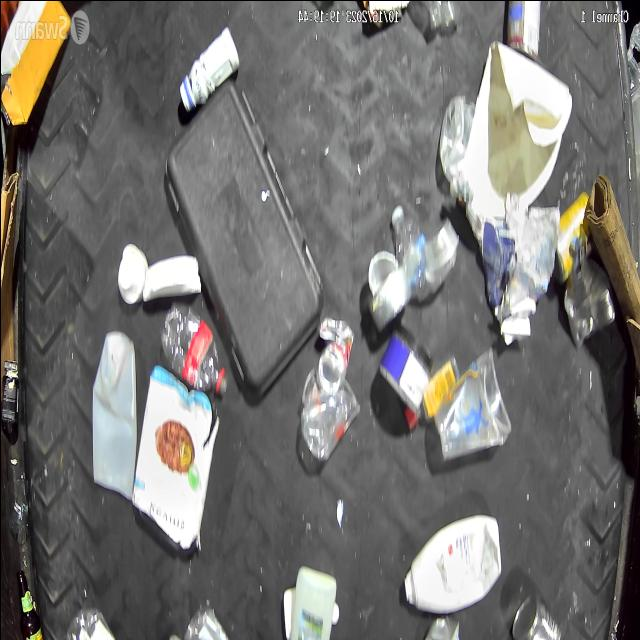can: (561, 252, 614, 346), (551, 188, 594, 284), (316, 316, 354, 395), (509, 590, 561, 640), (504, 0, 540, 62)
plastic_bottle: (158, 298, 228, 400), (390, 200, 428, 290)
